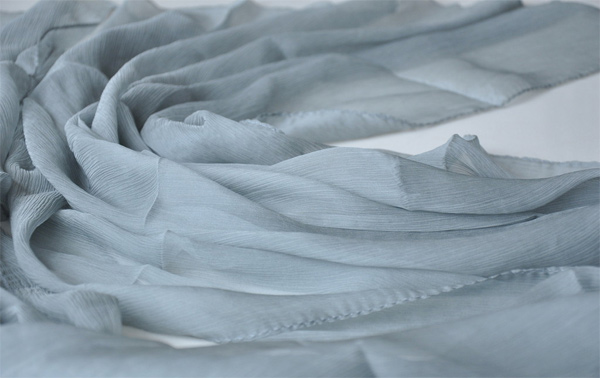flexible: (2, 1, 596, 378)
